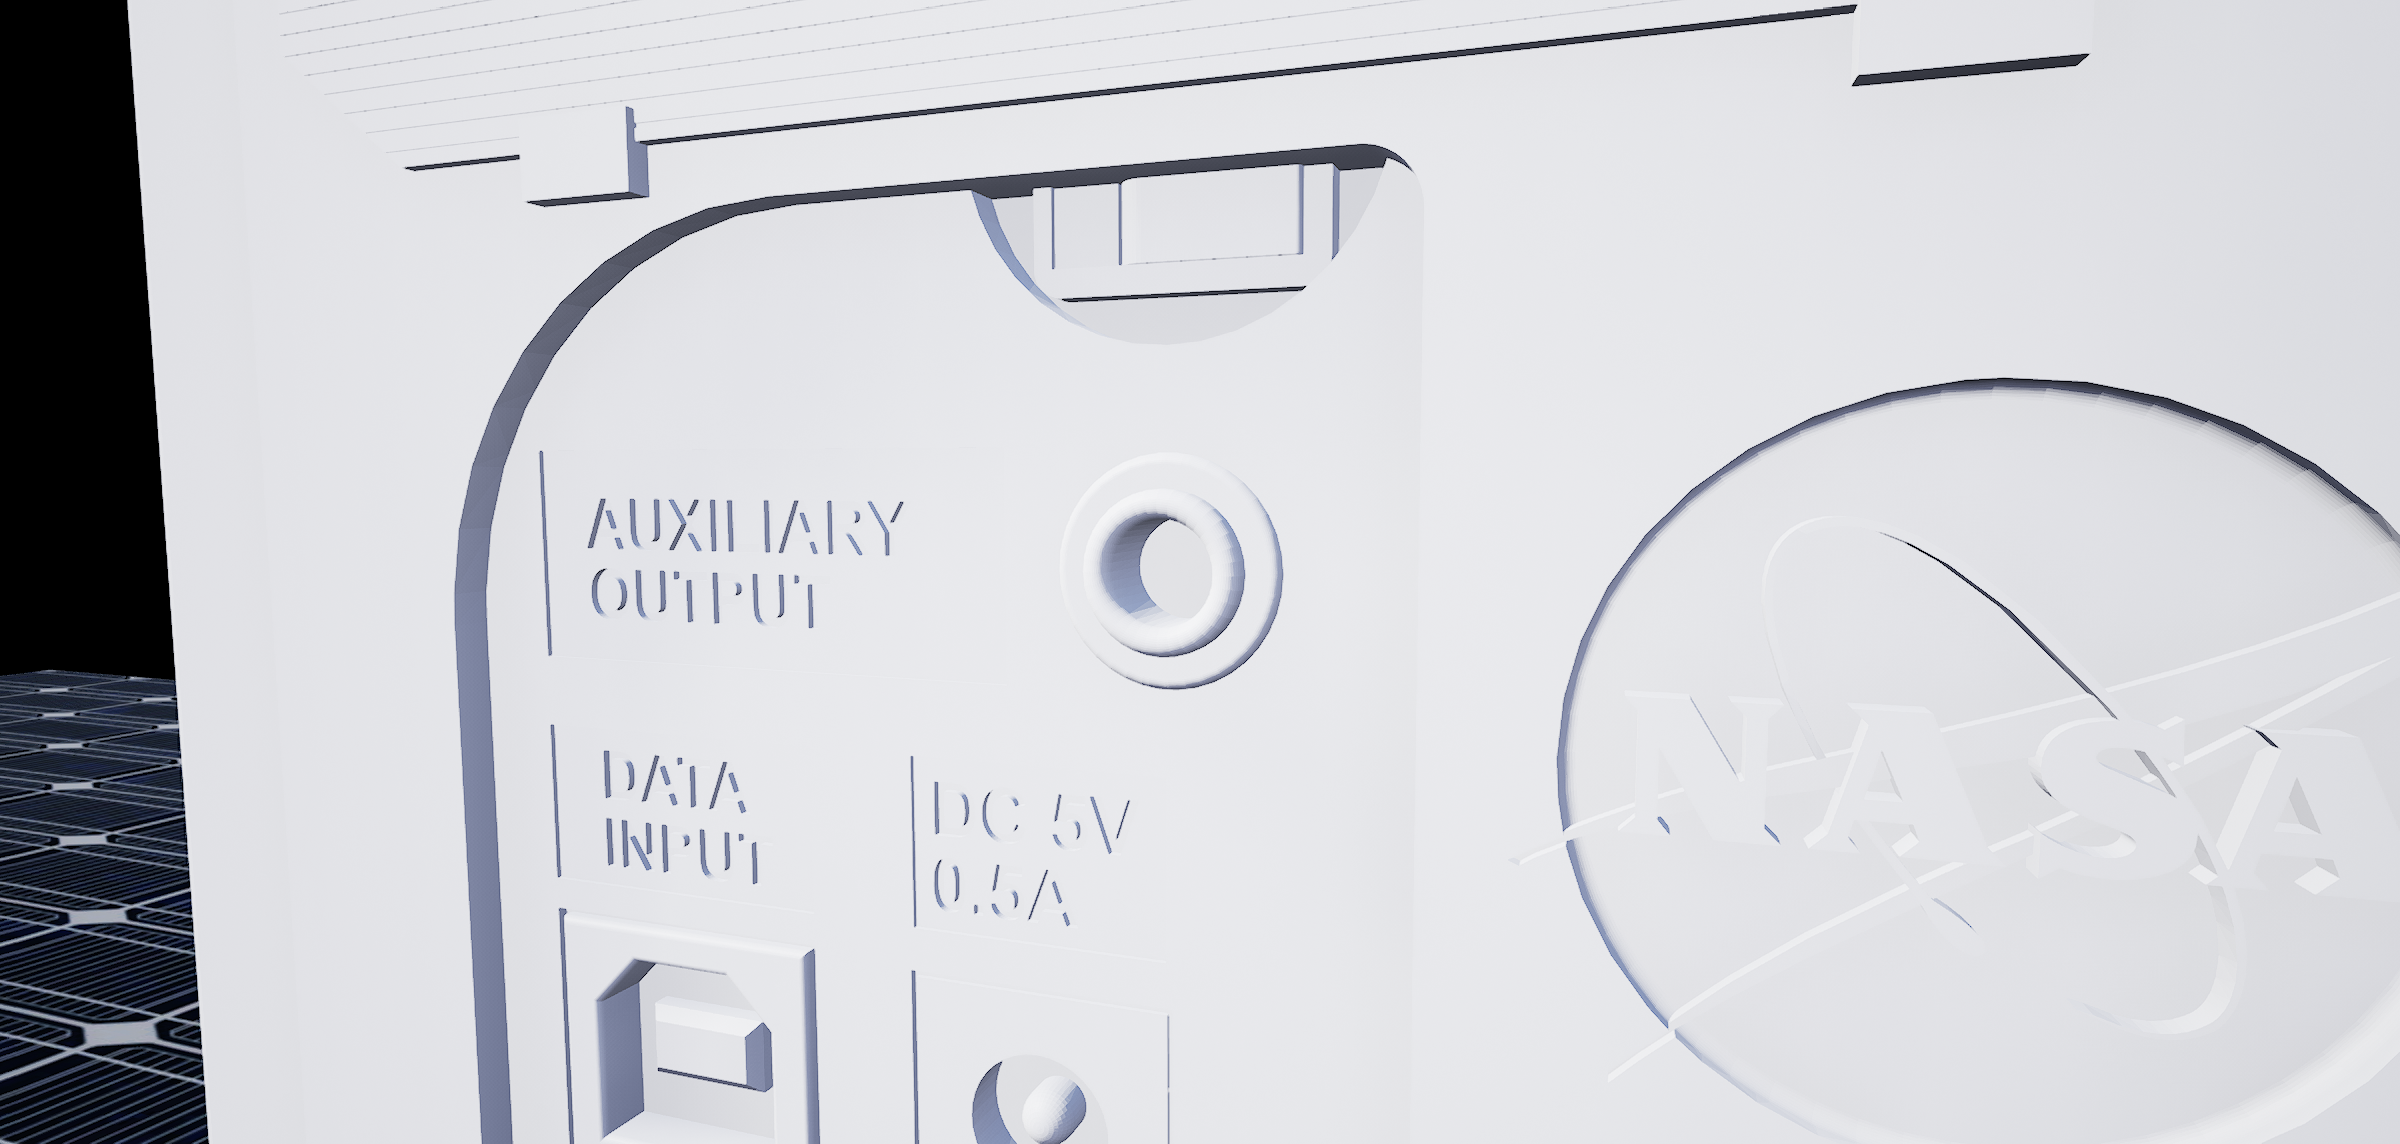aux: (1047, 446, 1306, 715)
dc: (958, 1046, 1110, 1144)
usb: (583, 943, 784, 1144)
